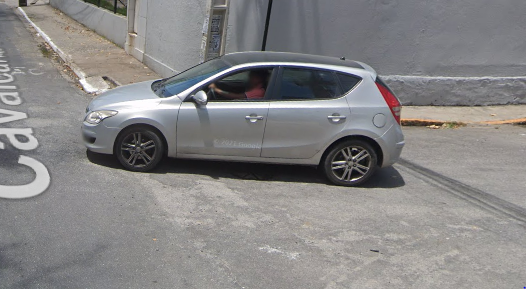car: (79, 45, 408, 191)
